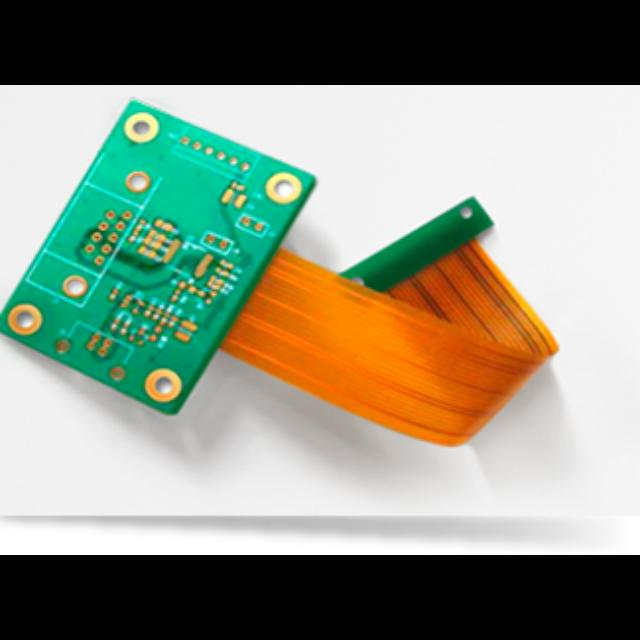PCB: (2, 99, 559, 449)
